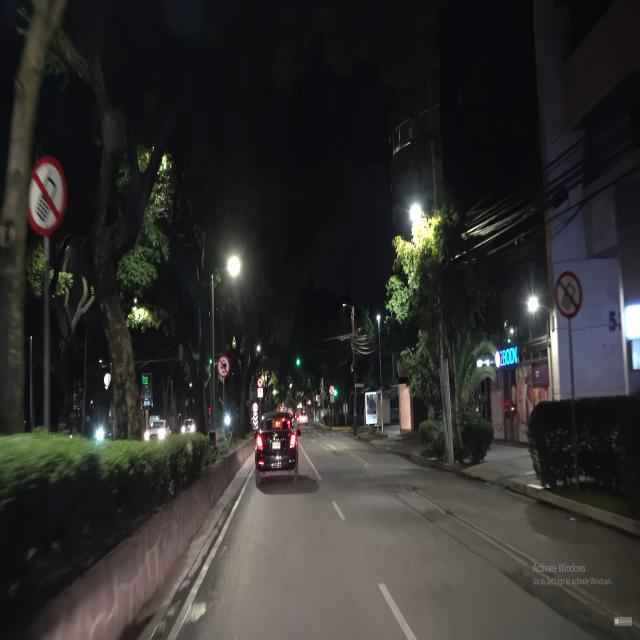headlights: (142, 423, 170, 444), (179, 418, 198, 436)
